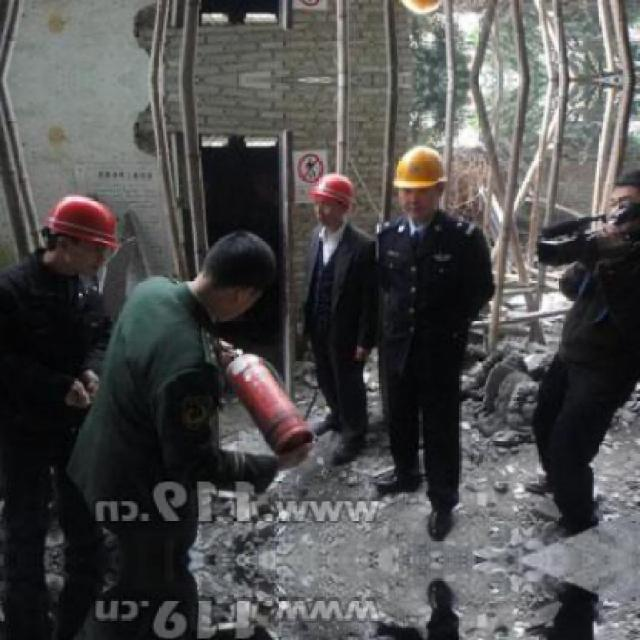helmet: (34, 184, 134, 284), (388, 140, 454, 228), (308, 168, 360, 228), (388, 0, 455, 22)
